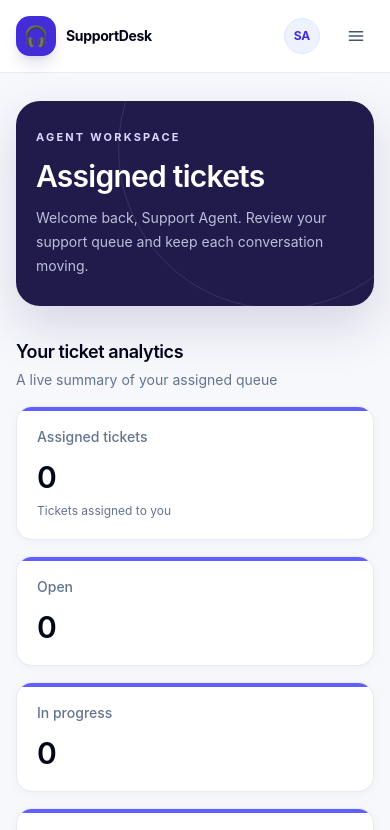
Test: SupportDesk frontend foundation › opens the responsive navigation with a keyboard-accessible control
Click the button named "Open navigation": (356, 36) [338, 18, 374, 54]
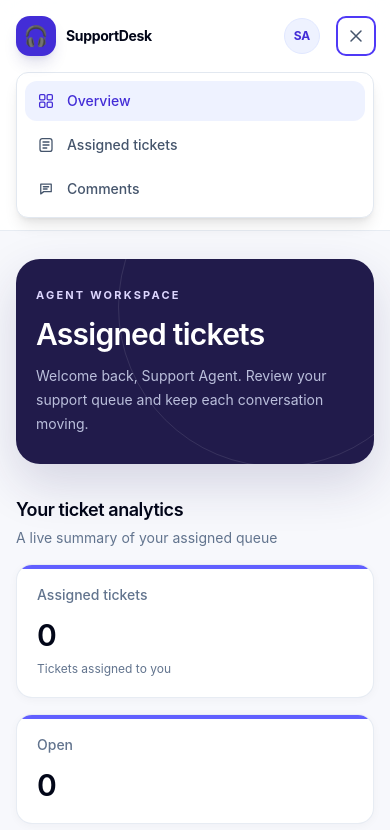
Now the button named "Close navigation" is expanded, box [338, 18, 374, 54]
